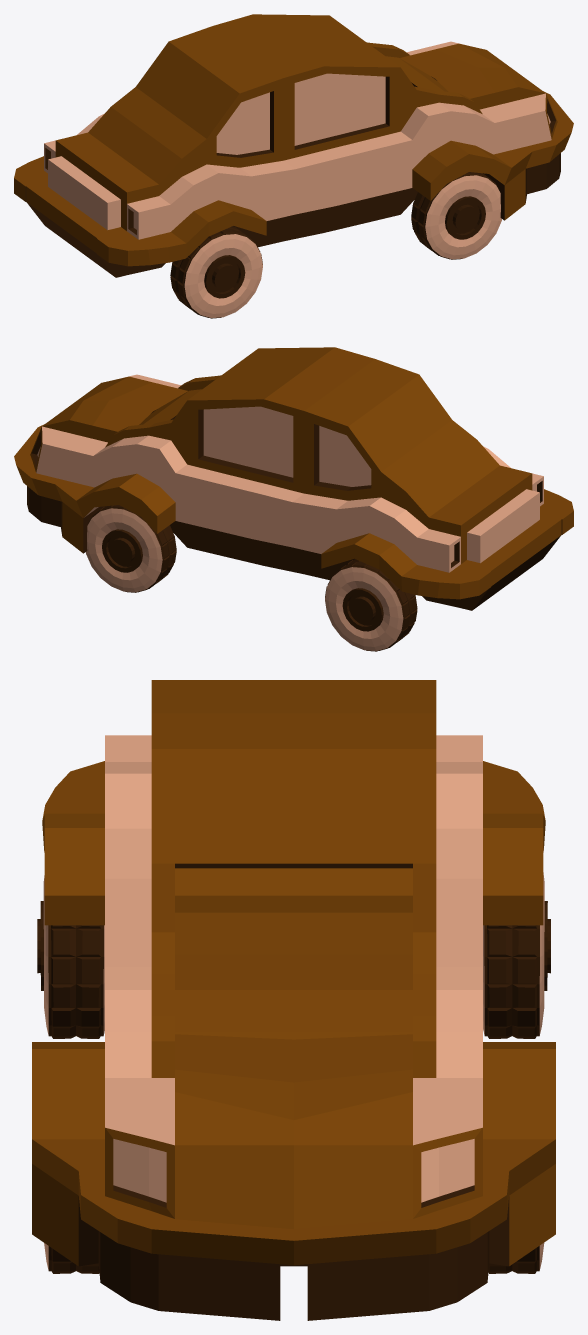
The model's file is Vehicle.fbx.
The picture shows the model from 3 angles, top to bottom: view 1: azimuth 30°, elevation 25°; view 2: azimuth 150°, elevation 25°; view 3: azimuth 270°, elevation 25°; orthographic projection. The views are drawn at different scales.
Parts seen in each view (by area): view 1: Car_Blocks_FIX:Mesh; view 2: Car_Blocks_FIX:Mesh; view 3: Car_Blocks_FIX:Mesh.
Boxes of the visible parts, <box> form: Car_Blocks_FIX:Mesh: <box>14,14,573,318</box>; Car_Blocks_FIX:Mesh: <box>14,347,573,651</box>; Car_Blocks_FIX:Mesh: <box>32,680,555,1320</box>.
Size of the model in its own units: 512 by 202 by 237.
